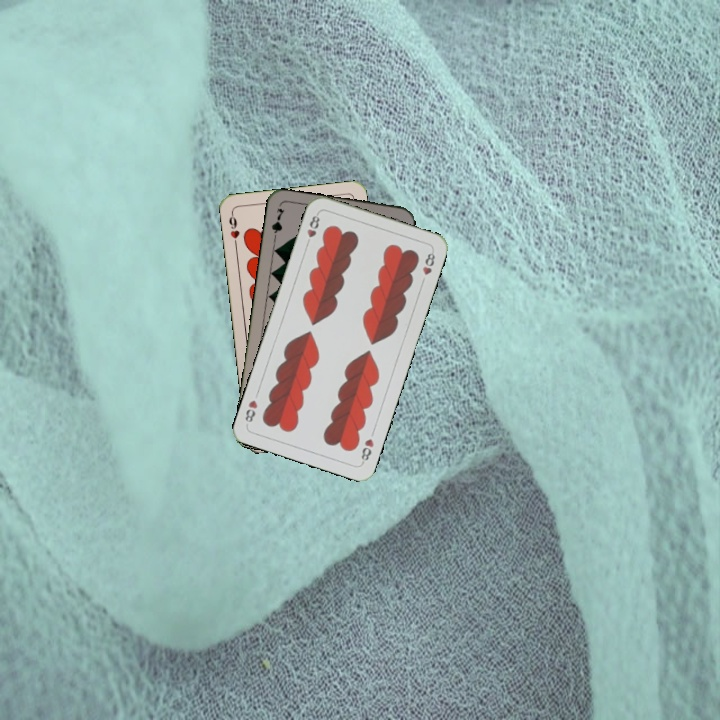G7: (267, 204, 287, 244)
H8: (302, 209, 322, 249), (357, 434, 376, 466)
H9: (225, 209, 242, 249)
